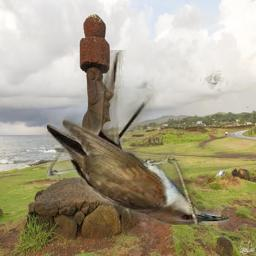Cuckoo: (47, 50, 229, 225)
